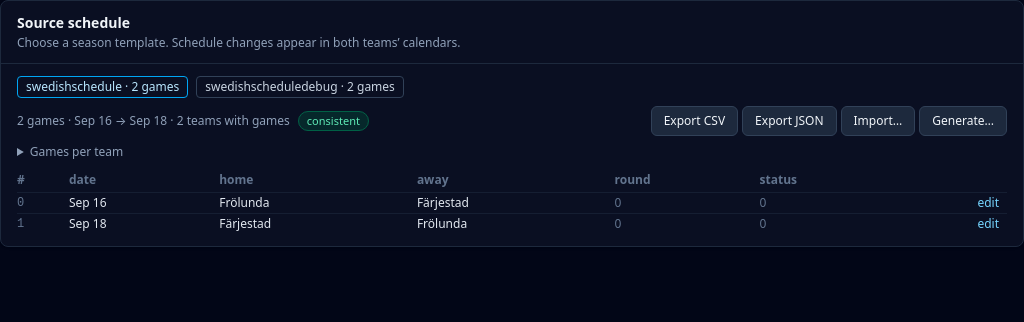
Scenario: LeagueScheduleCard (P1-A R1 ownership) › applies the held review id (not the inputs); a preview alone writes nothing
Expected: the element with test id "schedule-summary" is shown, [17,106,1007,136]
Click the button with test id "edit-game-0" at coordinates (988, 203), box [977,195,999,211]
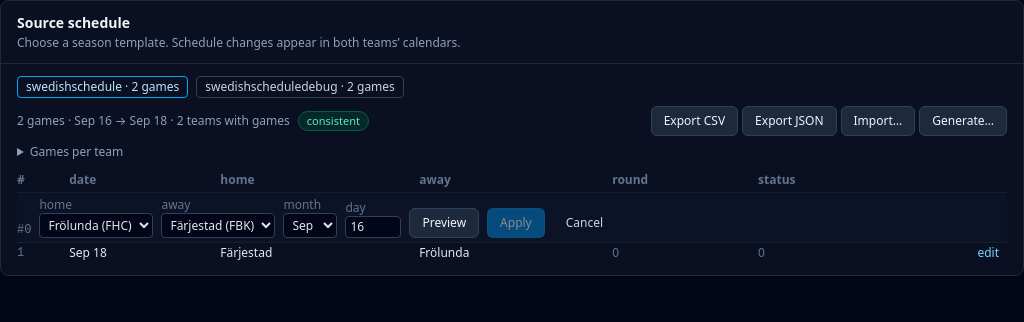
Result: the element with test id "game-editor" is shown at [17,196,616,238]
Select "Färjestad (FBK)" in the dropdown with test id "edit-home" at coordinates (96, 226), box [39,213,153,238]
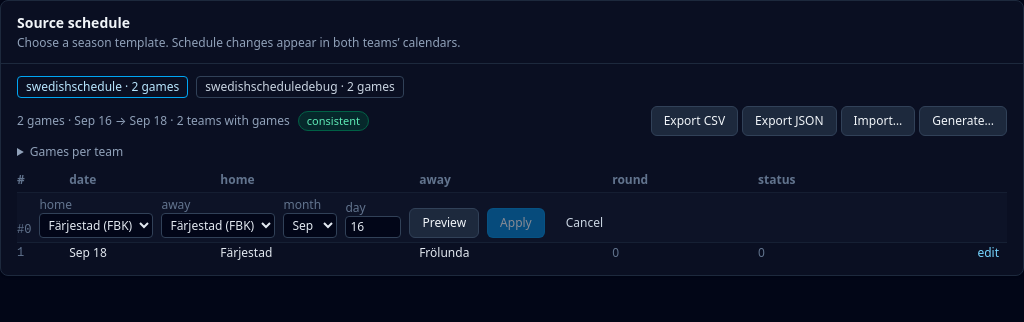
Select "Frölunda (FHC)" in the dropdown with test id "edit-away" at coordinates (218, 226), box [161,213,275,238]
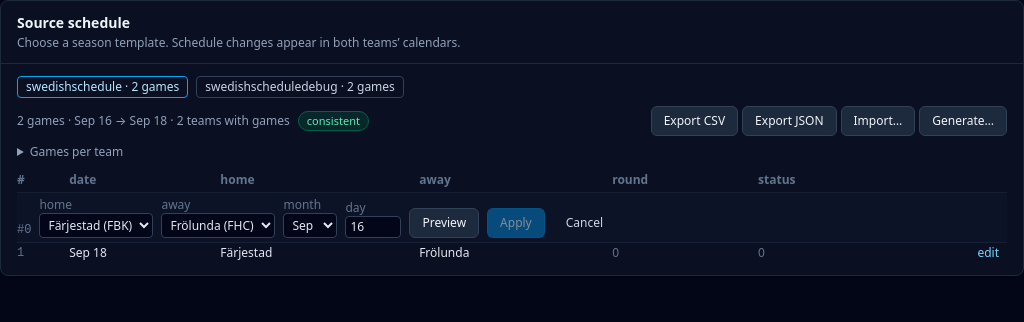
Result: the button with test id "edit-apply" is disabled at [487,208,545,238]
Click the button with test id "edit-preview" at coordinates (444, 223), box [409,208,479,238]
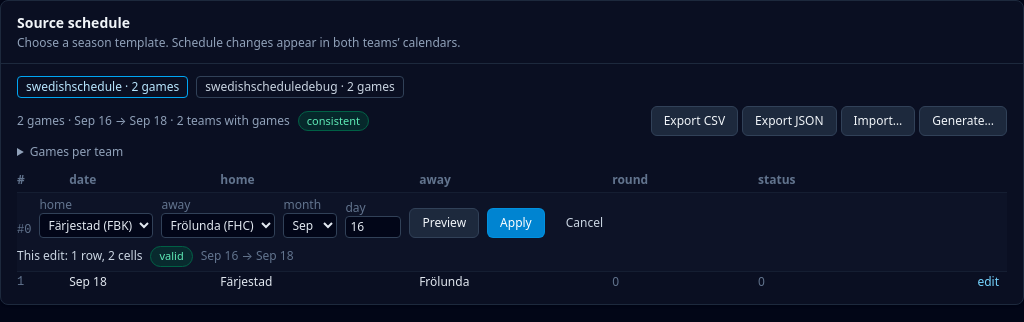
Result: the element with test id "schedule-plan" is shown at [17,246,294,267]
Click the button with test id "edit-apply" at coordinates (516, 223), box [487,208,545,238]
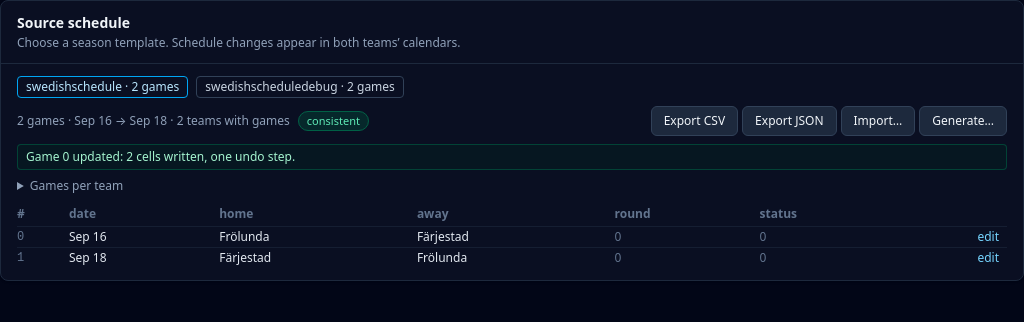
Result: the text "Game 0 updated: 2 cells written, one undo step." is shown at [17,144,1007,170]
